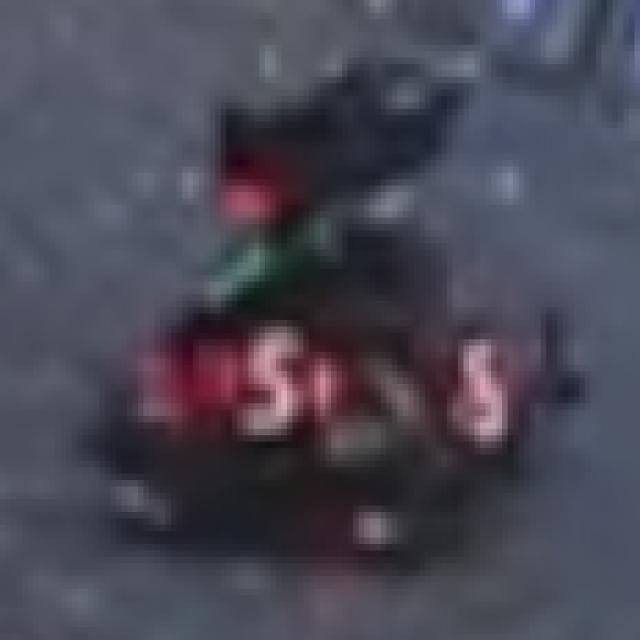R5: (215, 332, 337, 442)
